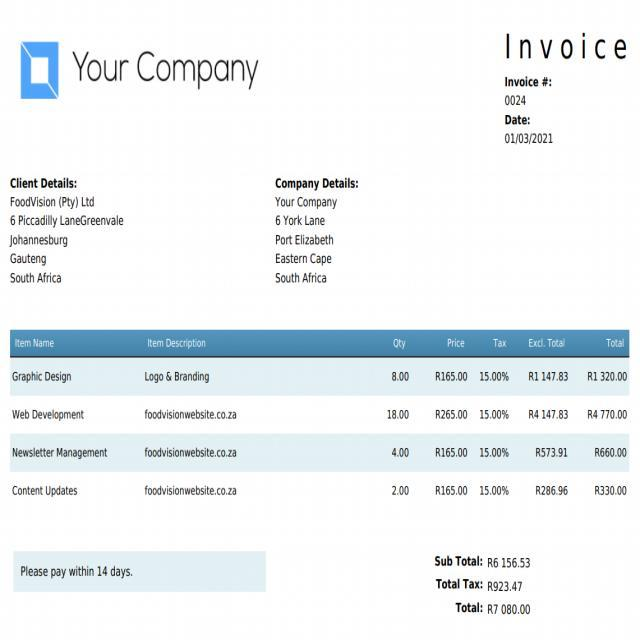customer_address: (8, 211, 130, 290)
customer_name: (7, 193, 99, 211)
invoice_date: (503, 130, 559, 148)
invoice_number: (501, 93, 531, 107)
invoice_subtotal: (486, 555, 532, 571)
invoice_total: (485, 602, 533, 617)
item_description: (140, 364, 254, 501)
item_quantity: (384, 364, 416, 502)
item_total_price: (584, 363, 630, 498)
item_unit_price: (428, 366, 475, 499), (272, 210, 345, 288)
supplier_name: (66, 42, 267, 99), (273, 194, 343, 209)
tax_amount: (486, 578, 524, 594)
